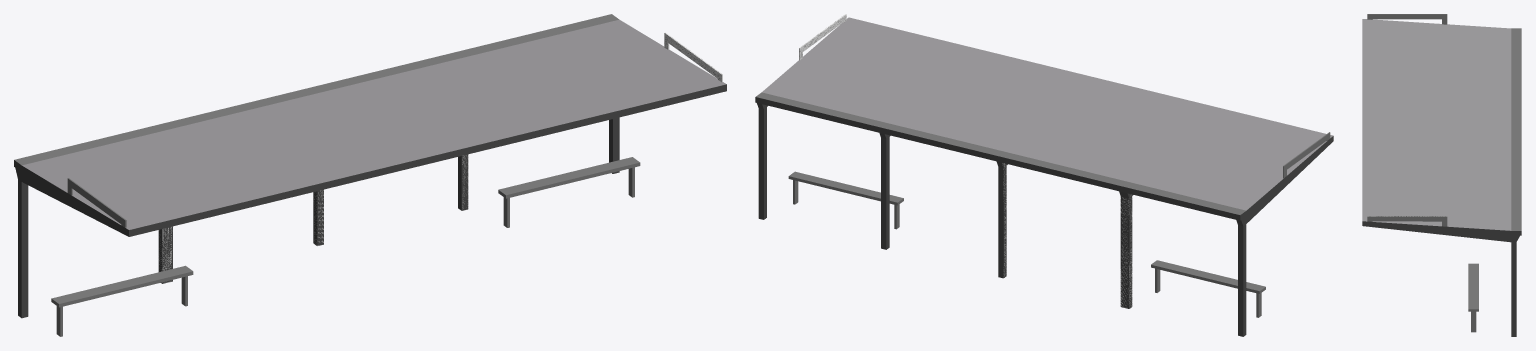
File: lta.dae
3 views of the same model, side by side, from view 1: azimuth 30°, elevation 25°; view 2: azimuth 150°, elevation 25°; view 3: azimuth 270°, elevation 25° (orthographic). The views are drawn at different scales.
Visible parts, largest first — view 1: SketchUp (×7); view 2: SketchUp (×5); view 3: SketchUp (×6).
Part boxes in pixels (x1,y1,x2,y2): SketchUp (×7): [14, 14, 726, 318]; SketchUp (×5): [755, 17, 1333, 336]; SketchUp (×6): [1362, 14, 1521, 336].
Size of the model in its own units: 354 by 118 by 98.43.
4 materials, 3 textured.
